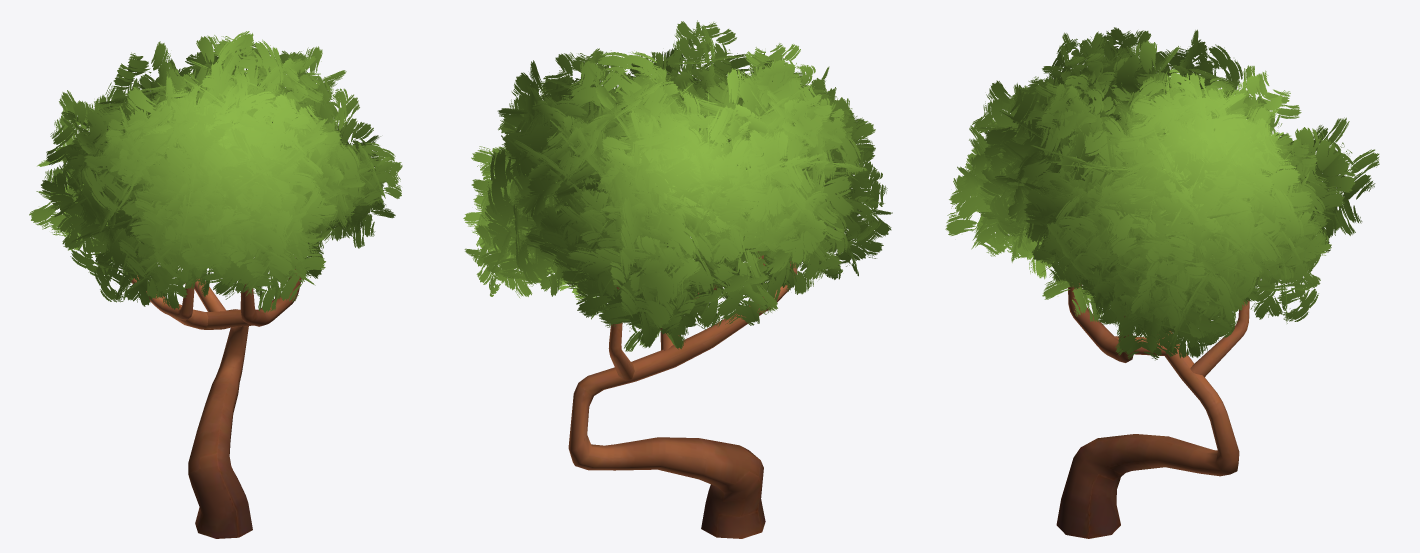
The model's file is STSwiggly4.glb.
3 renders of one model, left to right at view 1: azimuth 30°, elevation 25°; view 2: azimuth 150°, elevation 25°; view 3: azimuth 270°, elevation 25°, orthographic. The views are drawn at different scales.
Parts seen in each view (by area): view 1: STSwiggly4_Leaves, STSwiggly4_Trunk; view 2: STSwiggly4_Leaves, STSwiggly4_Trunk; view 3: STSwiggly4_Leaves, STSwiggly4_Trunk.
Part boxes in pixels (x1,y1,x2,y2): STSwiggly4_Leaves: (29,31,402,312); STSwiggly4_Trunk: (129,257,301,538); STSwiggly4_Leaves: (463,20,892,351); STSwiggly4_Trunk: (568,251,797,538); STSwiggly4_Leaves: (945,27,1379,360); STSwiggly4_Trunk: (1056,283,1249,538).
Size of the model in its own units: 4.67 by 5.96 by 5.2.
Materials: 2 (2 with a texture image).
